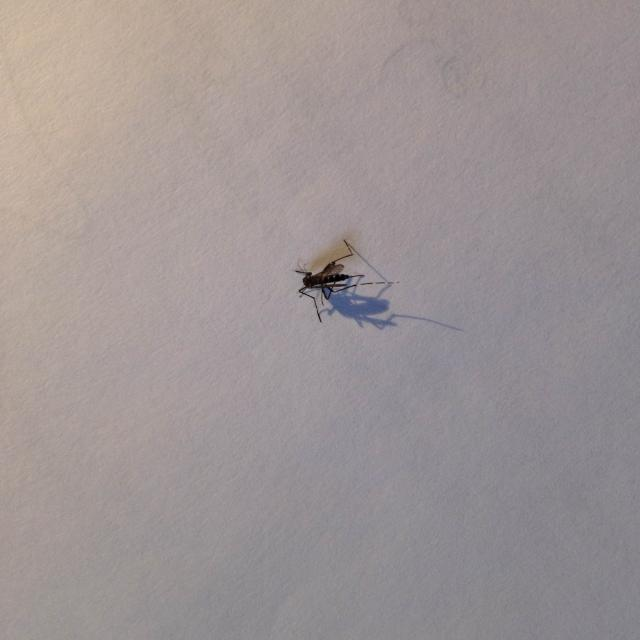albopictus: (284, 228, 452, 334)
